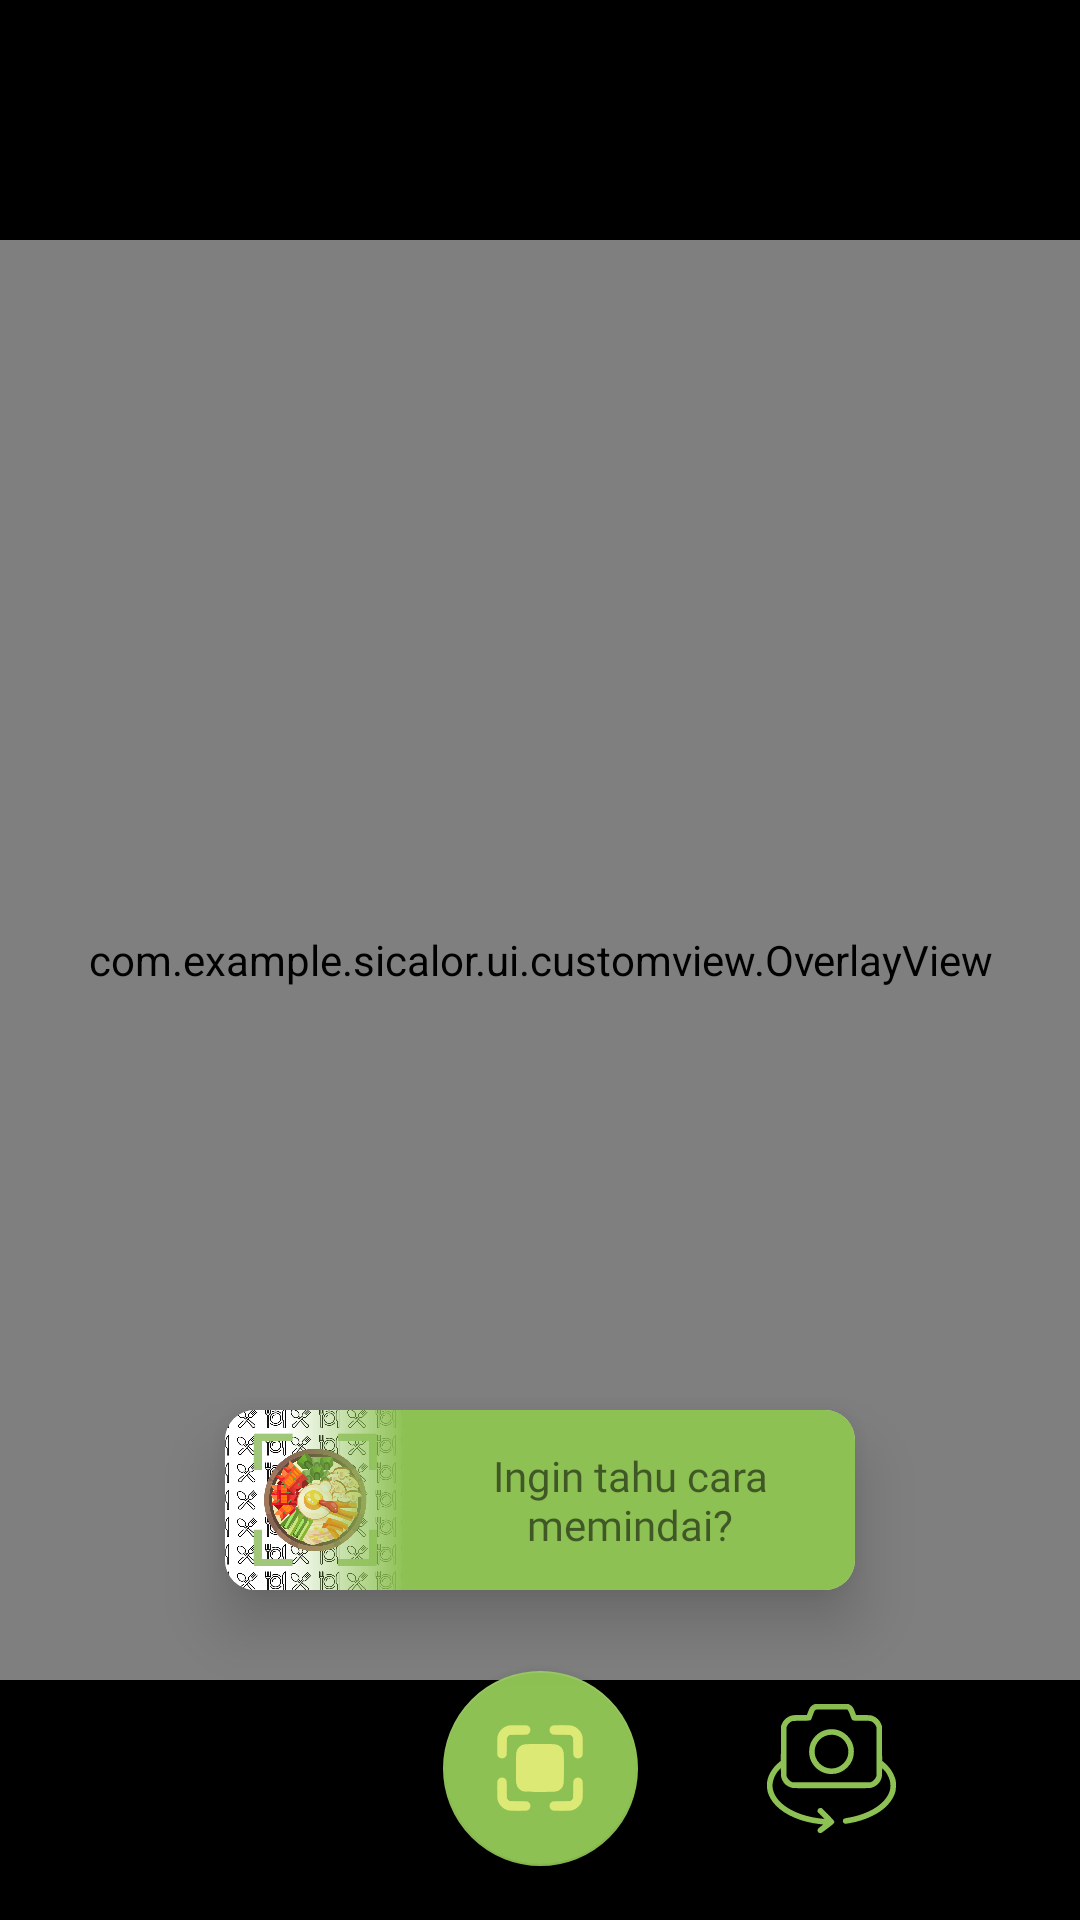

Point at icon controls on the screen. Image size 1080px x 1920px, points as [x,y].
capture: [540,1768]
healthy: [315,1500]
switch camera: [831,1768]
